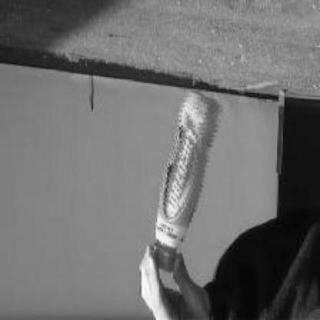other: (152, 90, 222, 276)
